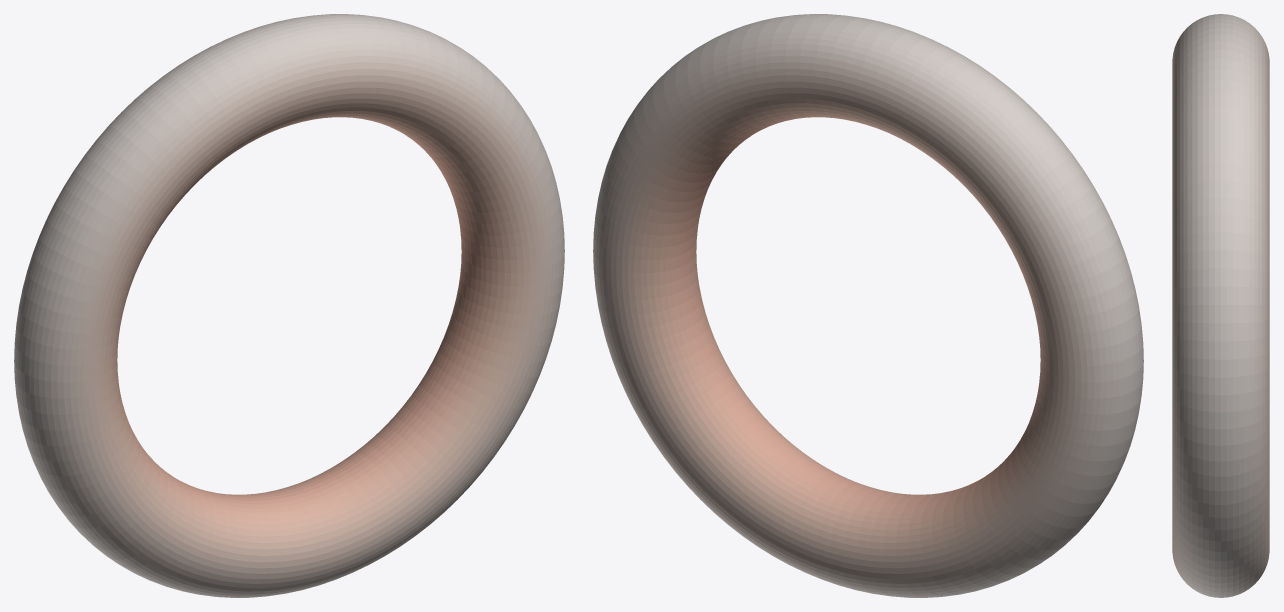
3 views of the same model, side by side, from view 1: azimuth 30°, elevation 25°; view 2: azimuth 150°, elevation 25°; view 3: azimuth 270°, elevation 25° (orthographic). The views are drawn at different scales.
Parts seen in each view (by area): view 1: world; view 2: world; view 3: world.
Boxes of the visible parts, bbox=[...] form: world: bbox=[14, 14, 564, 597]; world: bbox=[593, 14, 1143, 597]; world: bbox=[1172, 14, 1269, 597].
Bounding box in the file's own units: 31.2 × 31.2 × 5.19.
